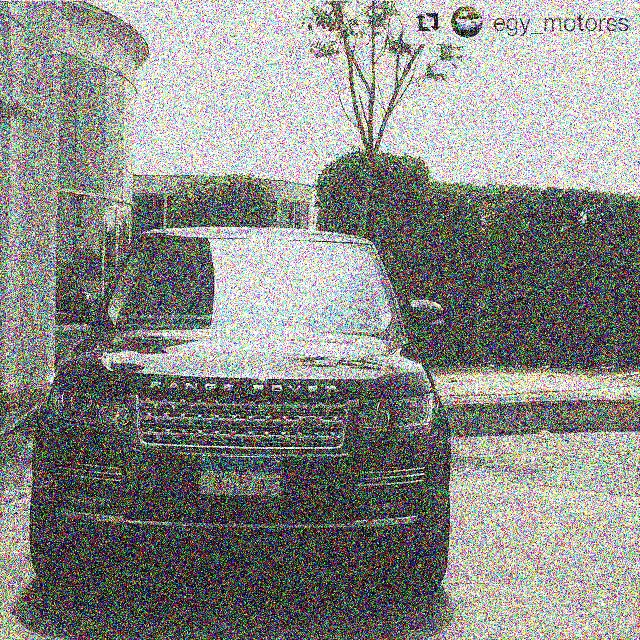License Plate: (197, 452, 283, 499)
